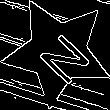N_NW: (26, 20, 89, 83)
